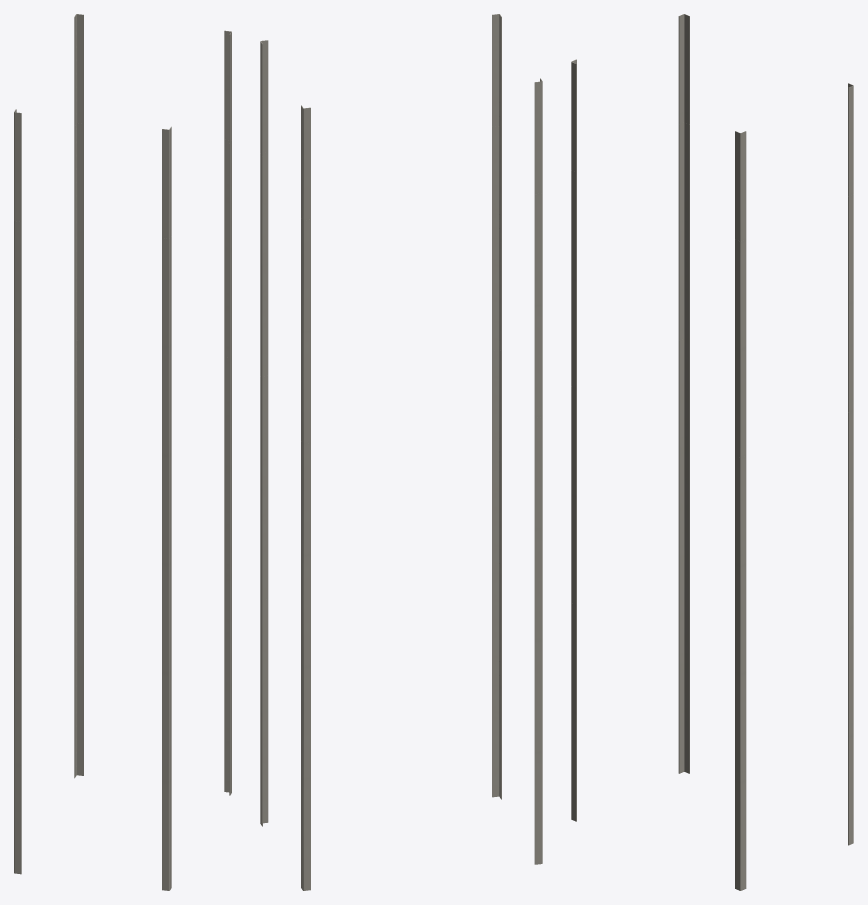
File: shelf_0301_t50_h2100_w600.glb
3 renders of one model, left to right at view 1: azimuth 30°, elevation 25°; view 2: azimuth 150°, elevation 25°; view 3: azimuth 270°, elevation 25°, orthographic. The views are drawn at different scales.
Visible parts, largest first — view 1: shelf_0301_t50_h2100_w600; view 2: shelf_0301_t50_h2100_w600; view 3: shelf_0301_t50_h2100_w600.
Boxes of the visible parts, x1,y1,x2,y2 form: shelf_0301_t50_h2100_w600: [14, 14, 231, 890]; shelf_0301_t50_h2100_w600: [260, 14, 542, 890]; shelf_0301_t50_h2100_w600: [571, 14, 853, 890].
Size of the model in its own units: 0.7101 by 2.1 by 0.7101.
1 material, 1 textured.
